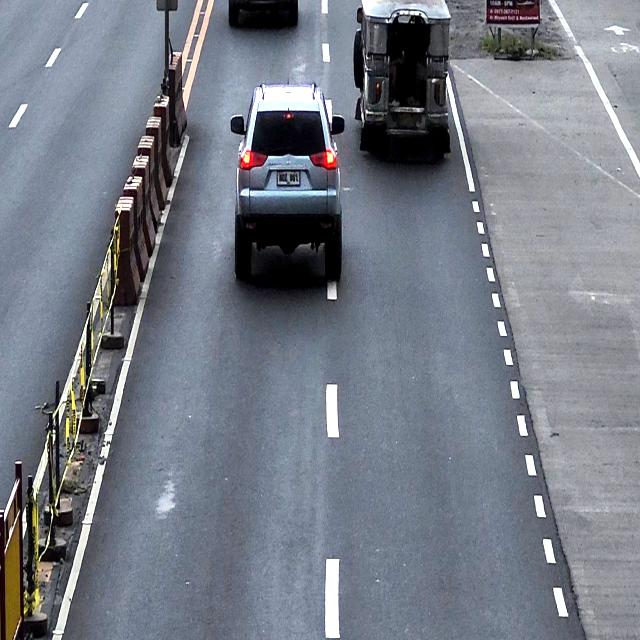Car: (230, 80, 345, 283), (228, 0, 299, 31)
Jeep: (353, 0, 451, 158)
License-Plate: (276, 168, 301, 187), (392, 111, 418, 128)
